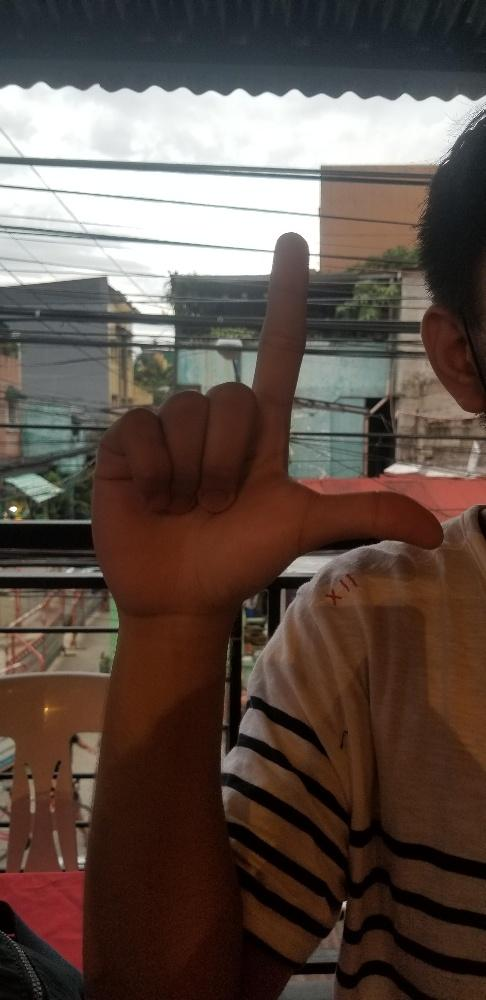l: (89, 229, 443, 614)
